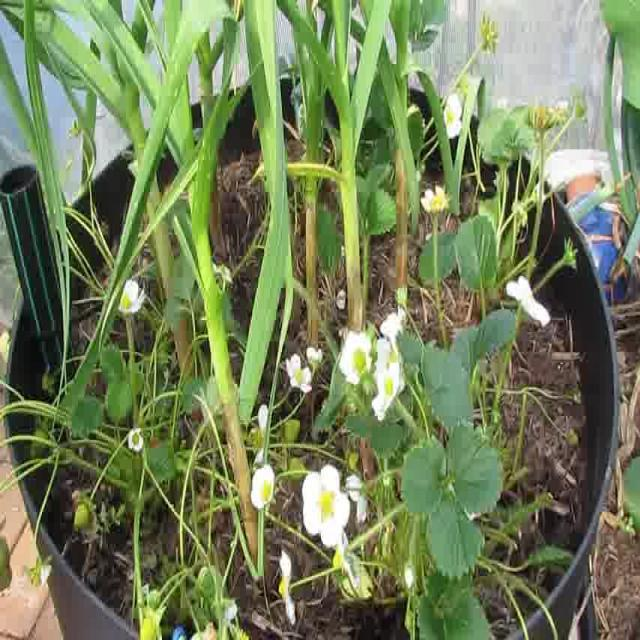Fruta sana: (73, 493, 95, 532), (142, 608, 167, 640), (30, 416, 48, 459), (276, 418, 300, 448), (1, 535, 12, 591), (282, 458, 306, 480), (42, 374, 54, 396), (348, 448, 360, 470)
Moho gris: (190, 621, 217, 640)
